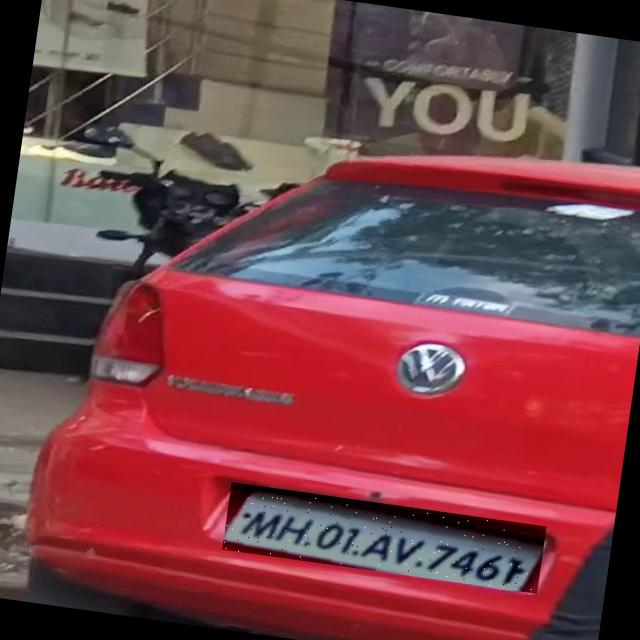Plate: (224, 483, 548, 595)
